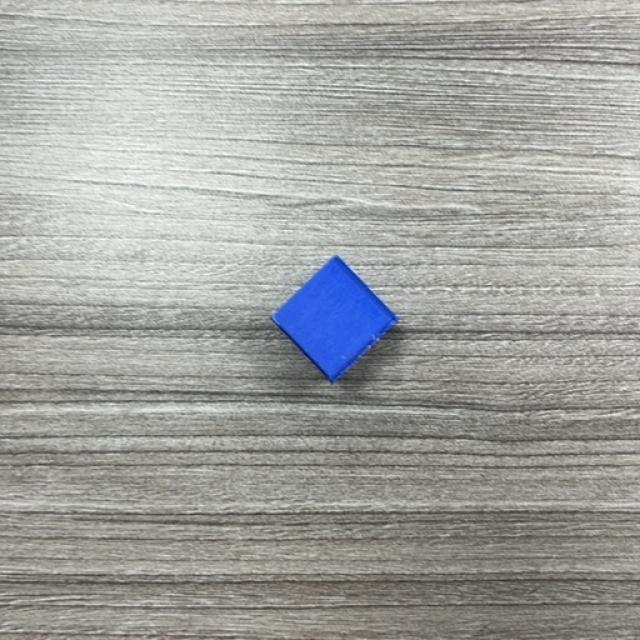Azul: (271, 256, 399, 384)
